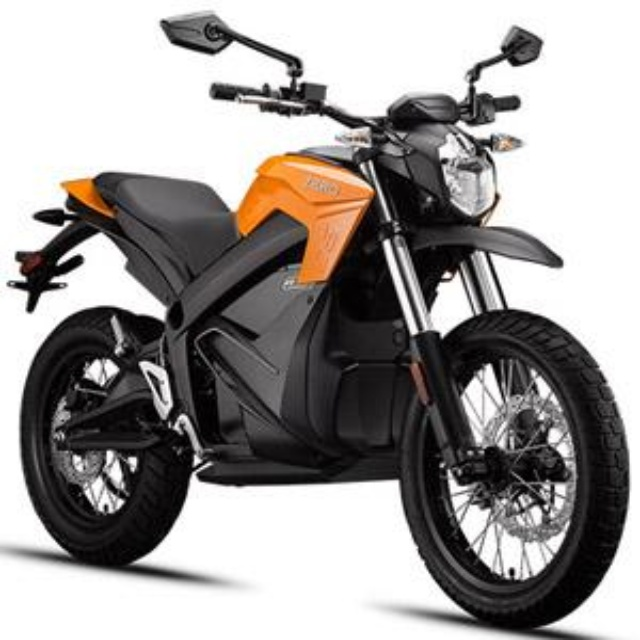Motorcycle: (6, 8, 629, 632)
